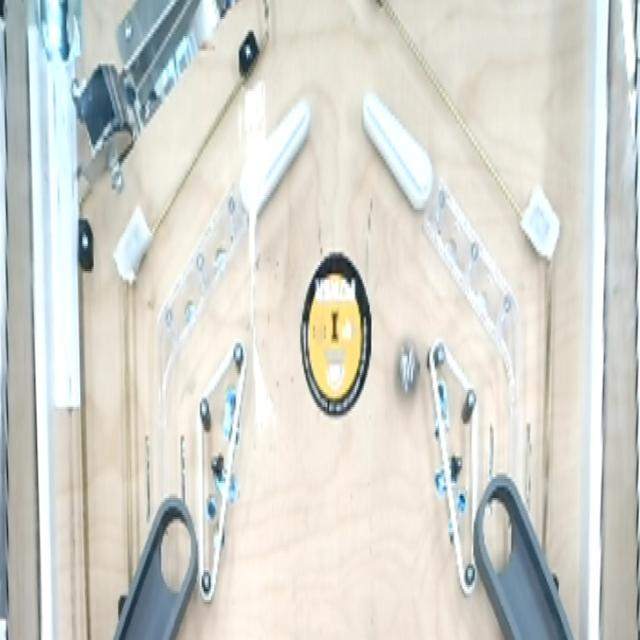ball: (389, 332, 424, 411)
flipper-left: (361, 86, 437, 222)
flipper-right: (237, 88, 314, 228)
